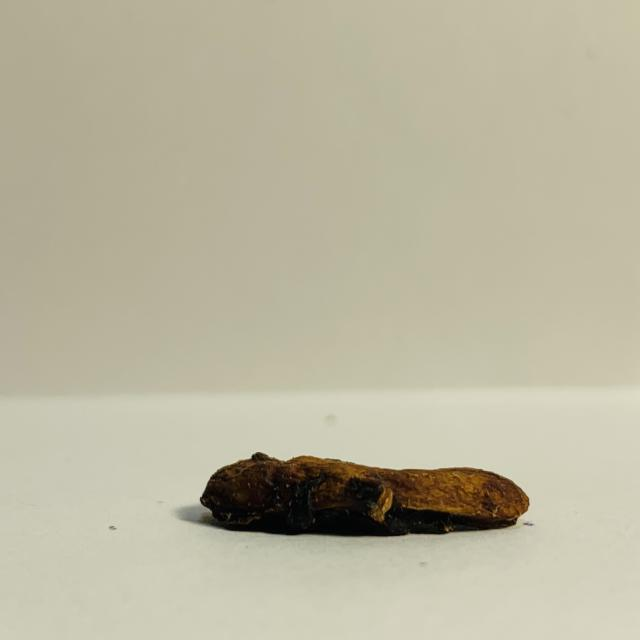Flat_cocoabeans: (67, 358, 582, 584)
